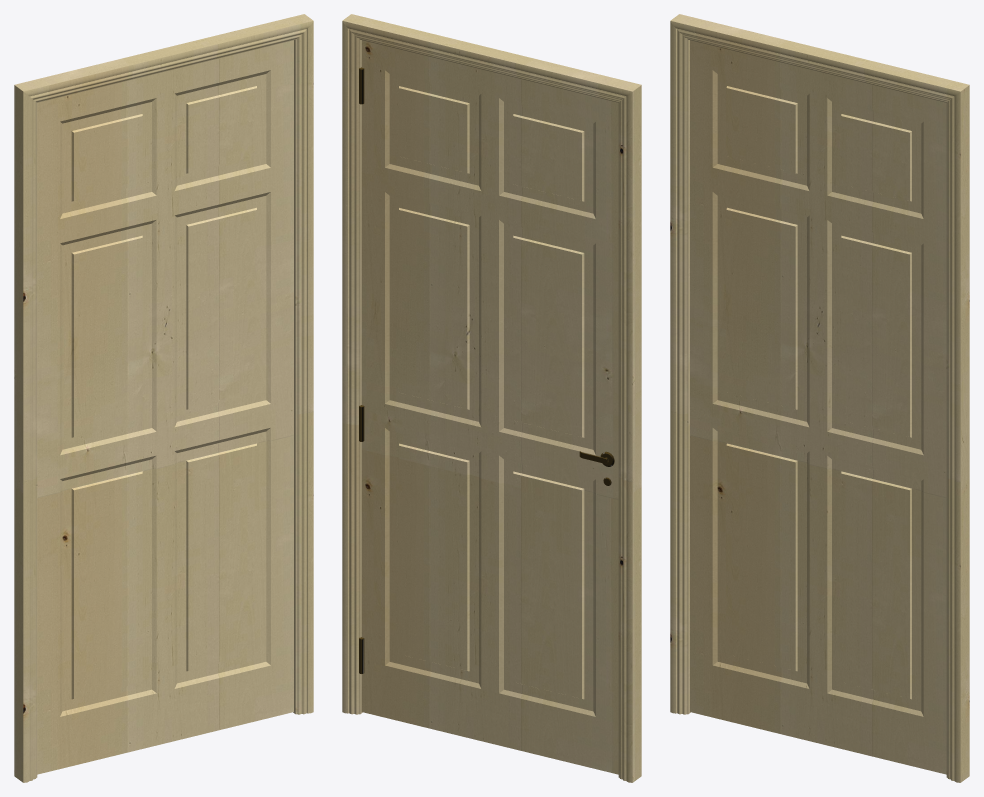
The model's file is door1.glb.
3 views of the same model, side by side, from view 1: azimuth 30°, elevation 25°; view 2: azimuth 150°, elevation 25°; view 3: azimuth 330°, elevation 25° (orthographic).
Visible parts, largest first — view 1: 10057_wooden_door_v002, 10057_wooden_door_frame_v002; view 2: 10057_wooden_door_v002, 10057_wooden_door_frame_v002; view 3: 10057_wooden_door_v002, 10057_wooden_door_frame_v002.
Part boxes in pixels (x1,y1,x2,y2): 10057_wooden_door_v002: (37, 40, 293, 774); 10057_wooden_door_frame_v002: (14, 14, 313, 782); 10057_wooden_door_v002: (359, 40, 618, 774); 10057_wooden_door_frame_v002: (342, 14, 641, 782); 10057_wooden_door_v002: (690, 40, 946, 774); 10057_wooden_door_frame_v002: (670, 14, 969, 782).
Size of the model in its own units: 0.9095 by 2.07 by 0.0551.
1 material, 1 textured.
